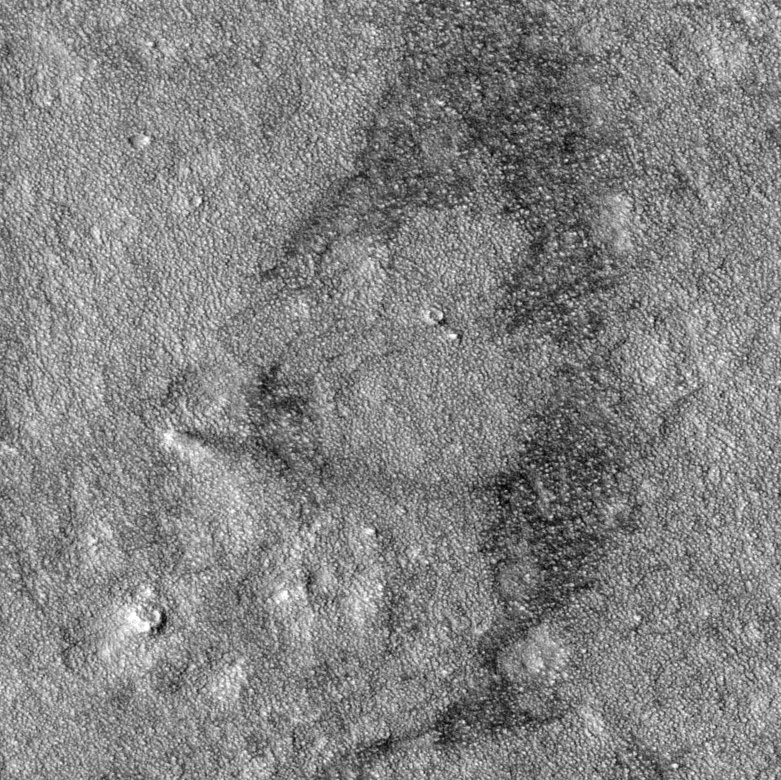dust_devil: (156, 422, 281, 478)
